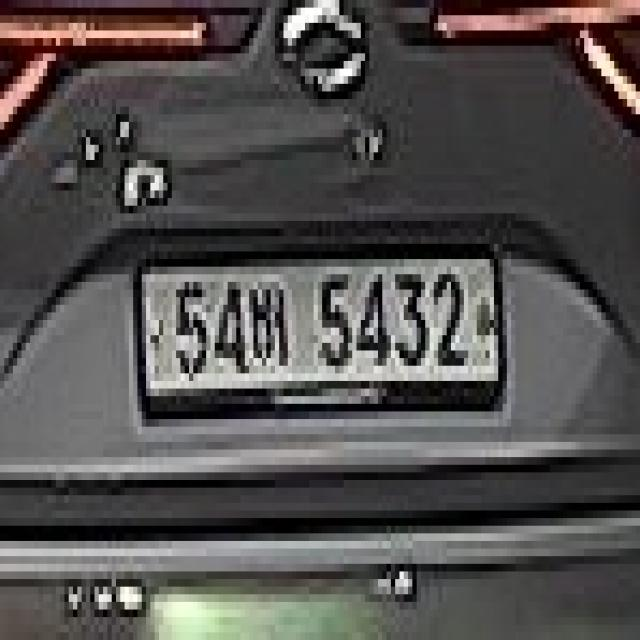2: (429, 259, 476, 381)
3: (391, 259, 429, 373)
4: (348, 267, 391, 373), (215, 274, 253, 381)
5: (318, 259, 352, 373), (168, 282, 206, 381)
beo: (249, 266, 292, 366)
license_plate: (129, 244, 507, 434)
